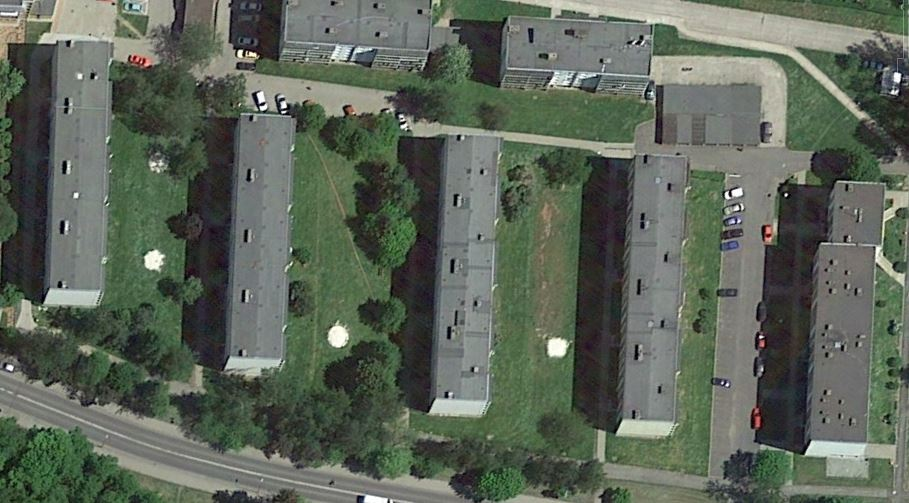block of flats: (799, 173, 888, 462), (421, 132, 502, 418), (36, 29, 117, 313), (611, 152, 689, 441), (214, 111, 298, 377), (498, 7, 654, 99), (276, 1, 435, 74)
garage: (654, 79, 767, 150)
